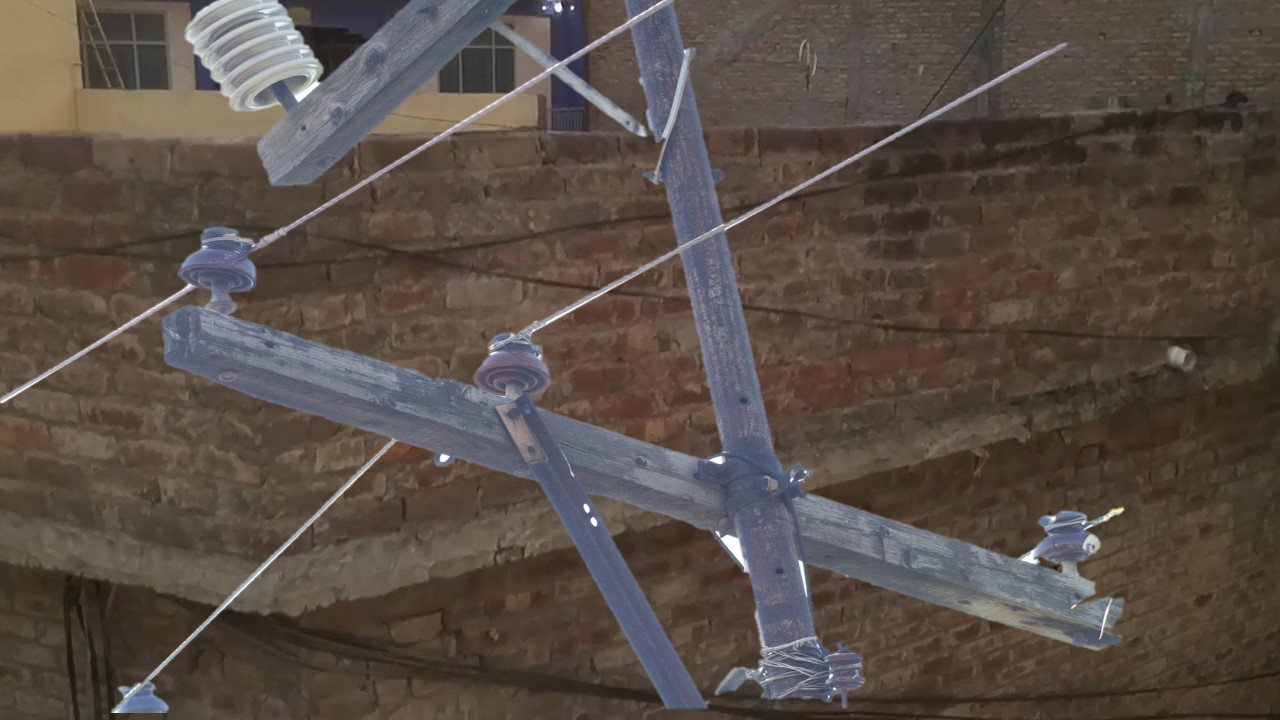defect_pin: (1031, 499, 1110, 577)
insulator_pin: (175, 220, 266, 304), (472, 327, 558, 405)
